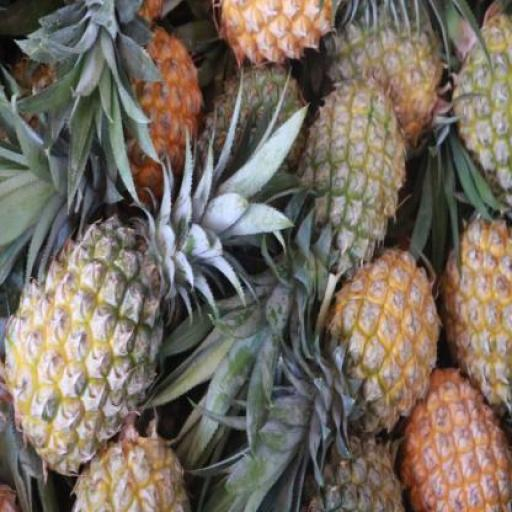------------------------------: (9, 225, 161, 472), (297, 82, 396, 276), (327, 0, 445, 143)
Pineapple - v8 v1: (334, 251, 441, 435), (398, 365, 507, 511), (444, 219, 511, 412)
